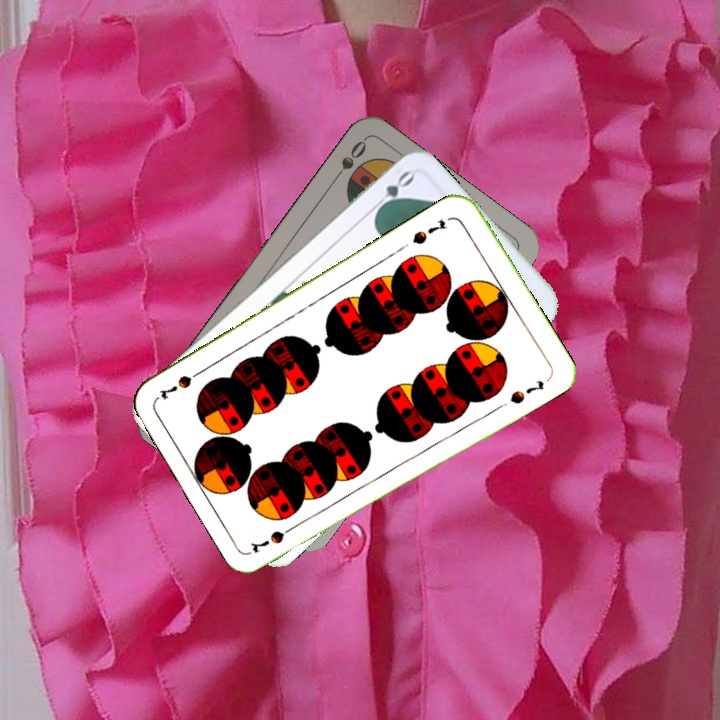GO: (367, 166, 417, 217)
S7: (248, 519, 302, 556), (408, 215, 449, 248)
SO: (327, 136, 369, 187)
